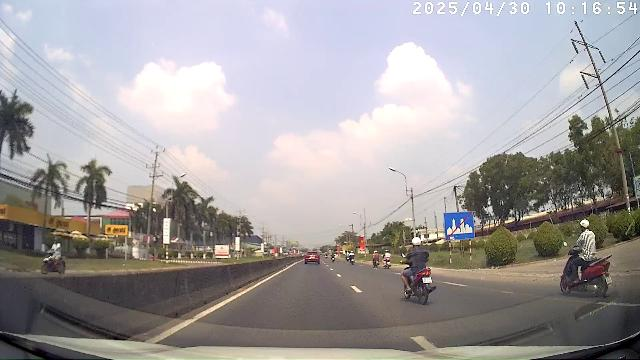421-ket-thuc-khu-dong-dan-cu: (444, 212, 474, 240)
